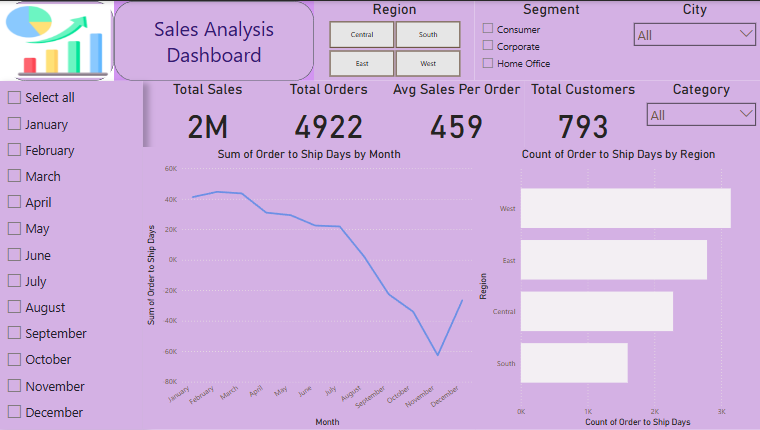

Layout of this report page (visuals, bound fields, positions):
{"tool":"powerbi","page":{"name":"Shipping Analysis","canvas":[1280,720],"ordinal":3},"visuals":[{"type":"shape","box":[10.1,0,181.4,134.4],"z":0},{"type":"image","box":[0,0,191.5,134.4],"z":1000},{"type":"shape","box":[191.5,0,336,134.4],"z":2000},{"type":"card","title":"Total Sales","fields":{"Values":["All Measures.Total Sales"]},"box":[240.2,134.4,216.7,110.9],"z":3000},{"type":"slicer","title":"Region","fields":{"Values":["train.Region"]},"box":[527.5,0,270.4,134.4],"z":4000},{"type":"slicer","title":"Order Month","fields":{"Values":["train.Order Date.Variation.Date Hierarchy.Month"]},"box":[0,134.4,240.2,586.2],"z":5000},{"type":"card","title":"Total Orders","fields":{"Values":["All Measures.Total Orders"]},"box":[451.9,134.4,199.9,110.9],"z":6000},{"type":"card","title":"Avg Sales Per Order","fields":{"Values":["All Measures.Avg Sales per Order"]},"box":[651.8,134.4,230.1,110.9],"z":7000},{"type":"card","title":"Total Customers","fields":{"Values":["All Measures.Total Customers"]},"box":[881.9,134.4,194.9,110.9],"z":8000},{"type":"slicer","title":"Segment","fields":{"Values":["train.Segment"]},"box":[797.9,0,257,134.4],"z":9000},{"type":"lineChart","fields":{"Category":["train.Order Date.Variation.Date Hierarchy.Month"],"Y":["Sum(train.Order to Ship Days)"]},"box":[240.2,245.2,557.7,475.4],"z":10000},{"type":"slicer","title":"City","fields":{"Values":["train.City"]},"box":[1054.9,0,225.1,134.4],"z":13000},{"type":"slicer","title":"Category","fields":{"Values":["train.Category"]},"box":[1076.7,134.4,203.3,110.9],"z":14000},{"type":"barChart","fields":{"Category":["train.Region"],"Y":["CountNonNull(train.Order to Ship Days)"]},"box":[797.9,245.2,482.1,475.4],"z":14001}]}

Visuals, with their boxes in screenshot pixels (x1, y1, x2, y2), scaled from the page's 1280x720 canvas onto the 760x430 screenshot:
shape: (x1=6, y1=0, x2=114, y2=80)
image: (x1=0, y1=0, x2=114, y2=80)
shape: (x1=114, y1=0, x2=313, y2=80)
"Total Sales" card: (x1=143, y1=80, x2=271, y2=146)
"Region" slicer: (x1=313, y1=0, x2=474, y2=80)
"Order Month" slicer: (x1=0, y1=80, x2=143, y2=429)
"Total Orders" card: (x1=268, y1=80, x2=387, y2=146)
"Avg Sales Per Order" card: (x1=387, y1=80, x2=524, y2=146)
"Total Customers" card: (x1=524, y1=80, x2=639, y2=146)
"Segment" slicer: (x1=474, y1=0, x2=626, y2=80)
lineChart - train.Order Date.Variation.Date Hierarchy.Month x Sum(train.Order to Ship Days): (x1=143, y1=146, x2=474, y2=429)
"City" slicer: (x1=626, y1=0, x2=759, y2=80)
"Category" slicer: (x1=639, y1=80, x2=759, y2=146)
barChart - train.Region x CountNonNull(train.Order to Ship Days): (x1=474, y1=146, x2=759, y2=429)
